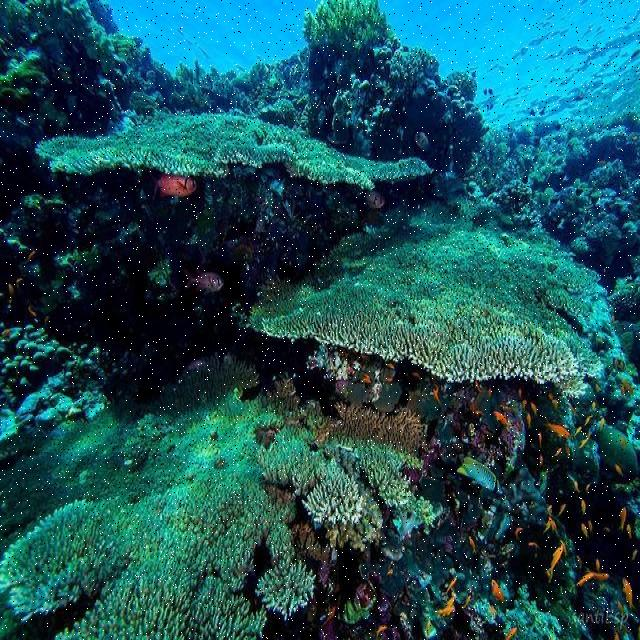fish: (457, 457, 503, 494), (150, 175, 195, 197), (181, 272, 224, 293), (360, 189, 385, 209)
reefs: (5, 357, 431, 638), (241, 200, 606, 396), (31, 107, 438, 186)
